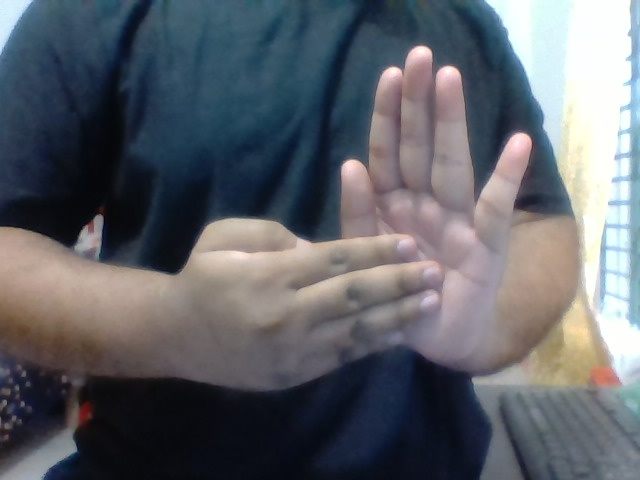H: (162, 39, 542, 404)
